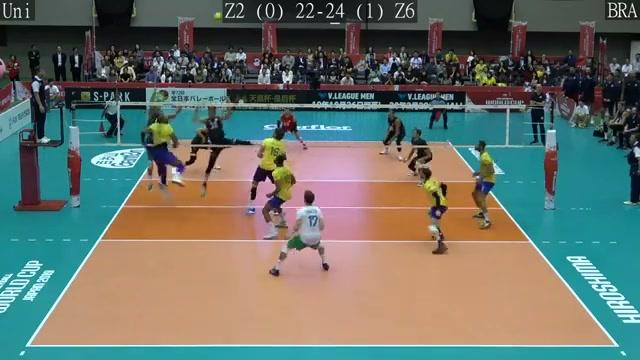ball: (211, 12, 226, 22)
